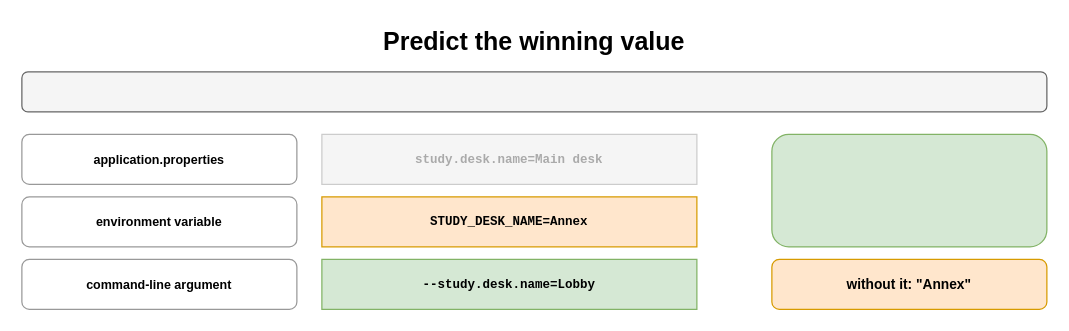
Image size: 1069x331. Some labels were removed from this diagram. Each missing label, with the box of its shape:
Command line beats environment beats the packaged file: (21, 71, 1047, 112)
with the argument prints "Lobby": (771, 133, 1047, 247)
